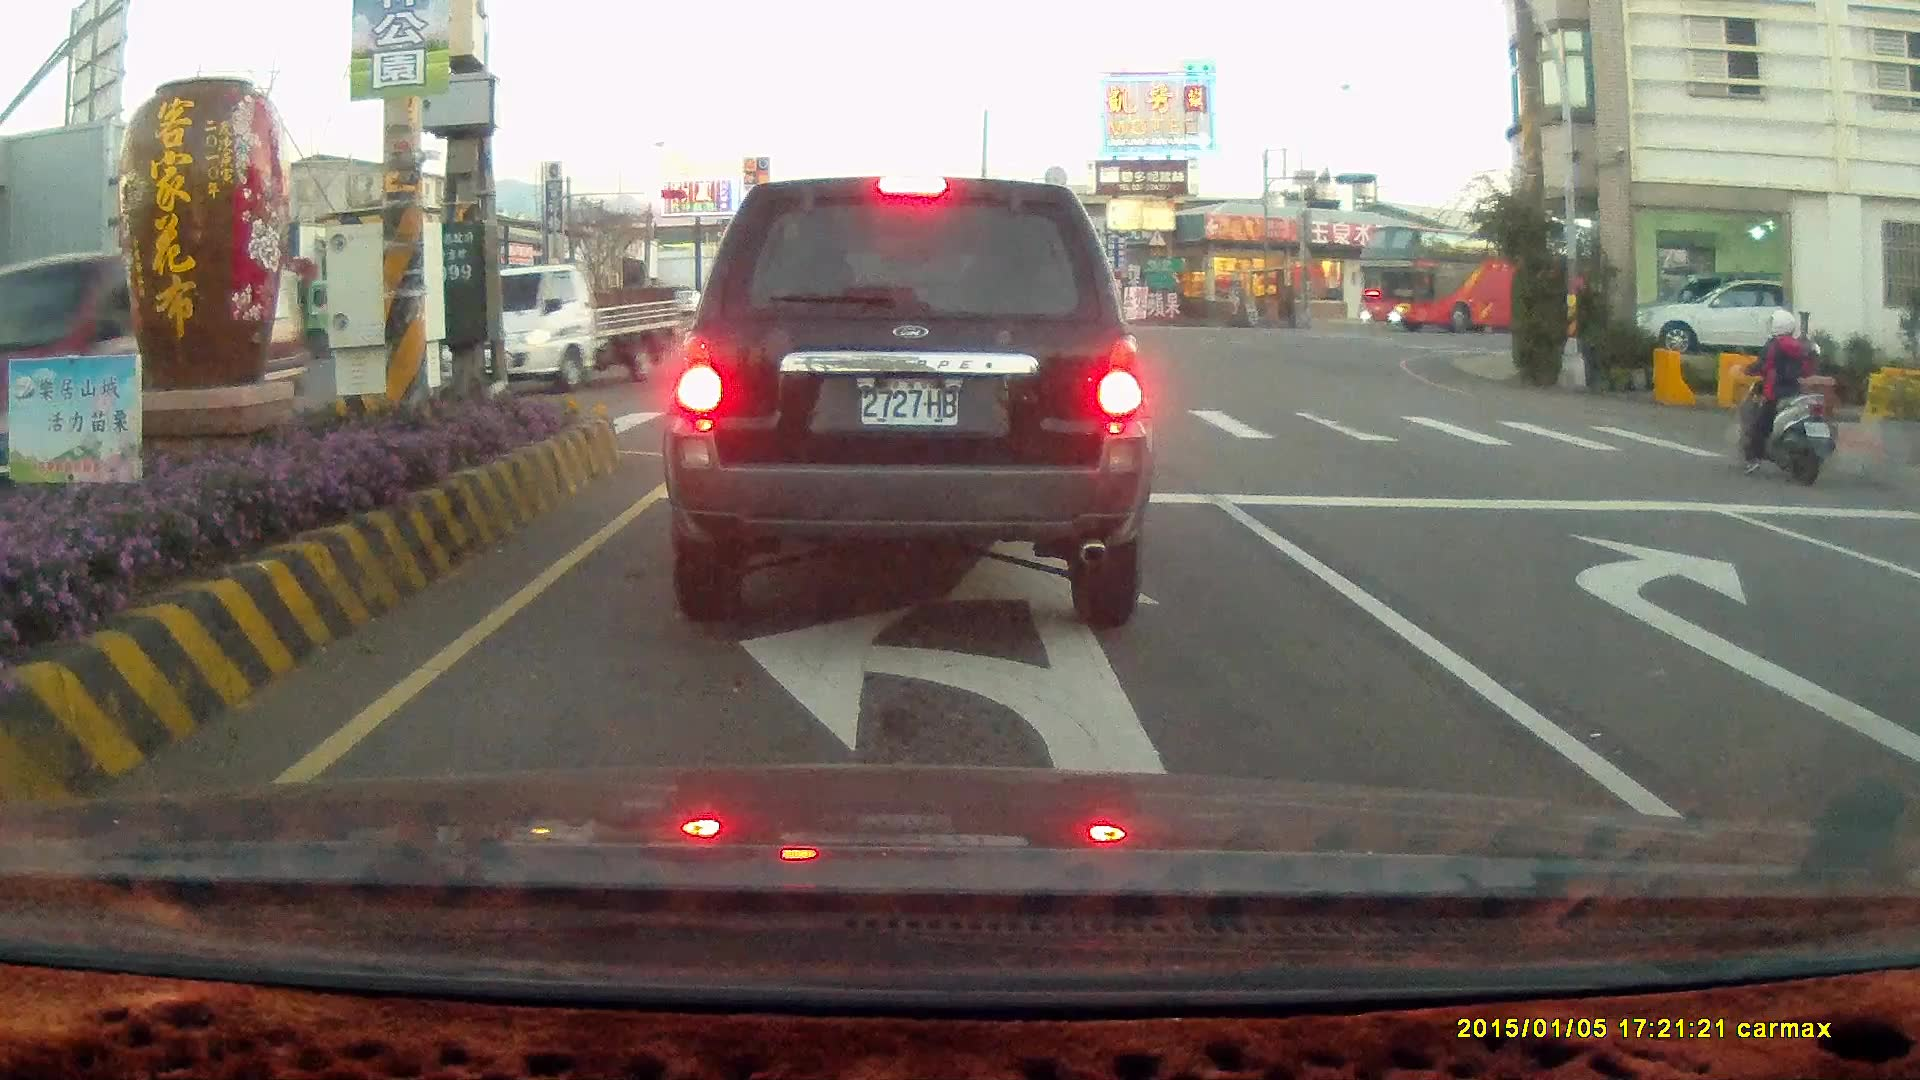rider: (1727, 308, 1833, 484)
vehicle: (660, 174, 1153, 630), (0, 243, 309, 504), (487, 259, 696, 388), (1354, 224, 1586, 334), (1621, 274, 1829, 353), (1642, 275, 1784, 356), (1896, 493, 1920, 836), (1883, 528, 1920, 690)
